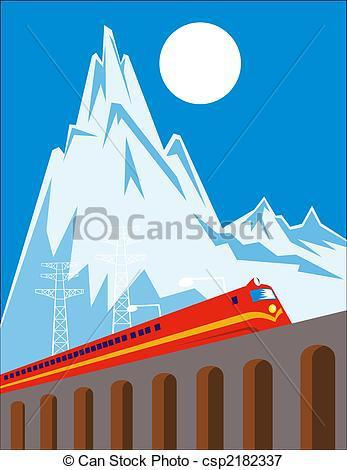train: (1, 275, 292, 394)
